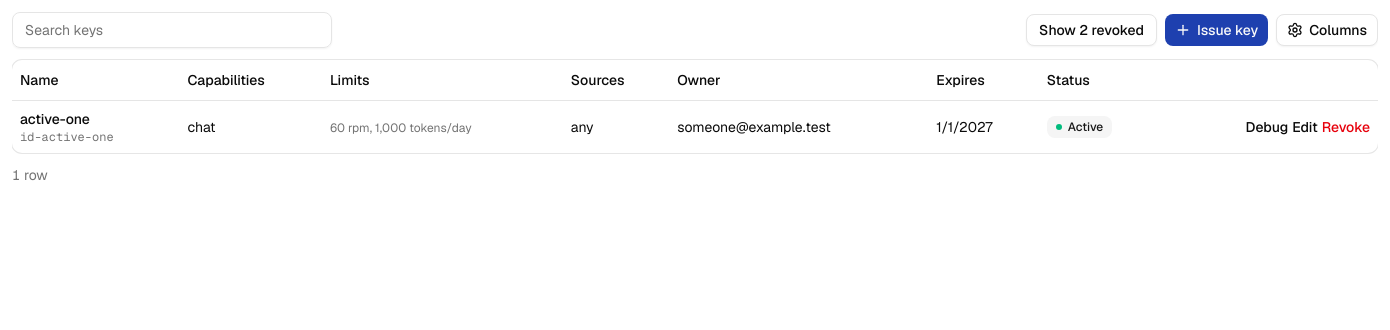
Test: searching while revoked keys are hidden › clears the search from the message it shows
Type "zzz" into the field labelled "Search keys" at point(172, 30), box [12,12,332,48]
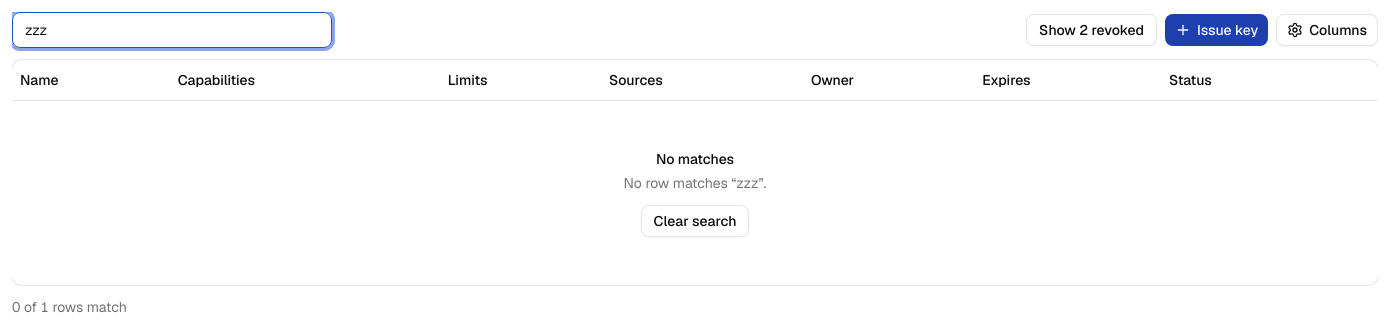
Click the button "Clear search" at point(695, 220), box [641,204,750,236]
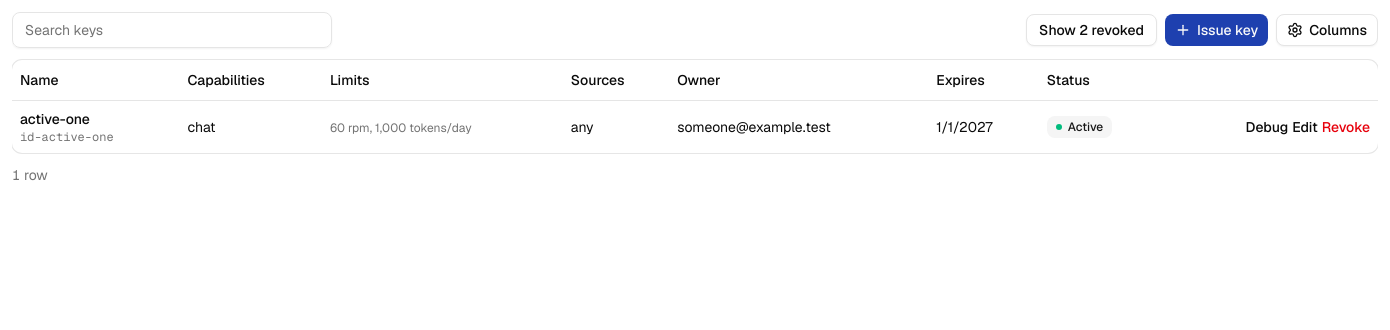
Expected: the text "active-one" is shown, [20,110,90,128]
